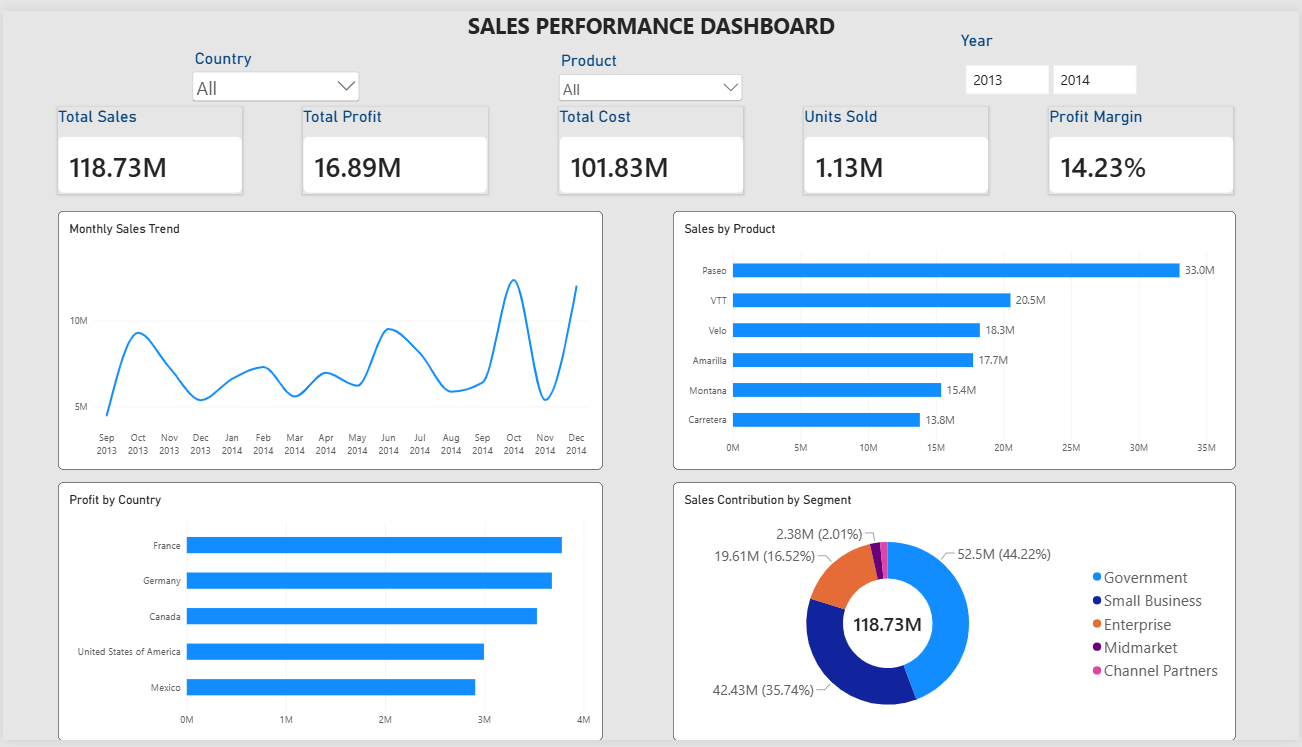

The page's visual inventory and layout, read from the dashboard file:
{"tool":"powerbi","page":{"name":"Page 1","canvas":[1920,1080],"ordinal":0},"visuals":[{"type":"cardVisual","title":"Total Sales","fields":{"Data":["Sum(financials. Sales)"]},"box":[82.3,142,273,127.6],"z":0},{"type":"cardVisual","title":"Total Profit","fields":{"Data":["Sum(financials.Profit)"]},"box":[444.6,142,273.8,127.6],"z":1000},{"type":"cardVisual","title":"Total Cost","fields":{"Data":["Sum(financials.COGS)"]},"box":[823.3,142,273,127.6],"z":2000},{"type":"cardVisual","title":"Units Sold","fields":{"Data":["Sum(financials.Units Sold)"]},"box":[1187.7,142,273,127.6],"z":3000},{"type":"lineChart","title":"Monthly Sales Trend","fields":{"Category":["financials.Month Year"],"Y":["Sum(financials. Sales)"]},"box":[82.3,296.4,806.9,382.8],"z":4000},{"type":"clusteredBarChart","title":"Sales by Product","fields":{"Category":["financials.Product"],"Y":["Sum(financials. Sales)"]},"box":[992.1,296.4,833.6,382.8],"z":5000},{"type":"clusteredBarChart","title":"Profit by Country","fields":{"Category":["financials.Country"],"Y":["Sum(financials.Profit)"]},"box":[82.3,697.8,806.9,382.8],"z":6000},{"type":"donutChart","title":"Sales Contribution by Segment","fields":{"Category":["financials.Segment"],"Y":["Sum(financials. Sales)"]},"box":[992.1,697.8,833.6,382.8],"z":7000},{"type":"cardVisual","title":"Profit Margin","fields":{"Data":["financials.Profit Margin %"]},"box":[1549.9,142,273,127.6],"z":8000},{"type":"slicer","fields":{"Values":["financials.Country"]},"box":[275.8,55.6,257.3,86.4],"z":9000},{"type":"slicer","title":"Year","fields":{"Values":["financials.Year"]},"box":[1418.2,28.8,292.3,113.2],"z":10000},{"type":"slicer","fields":{"Values":["financials.Product"]},"box":[819.2,59.7,282,82.3],"z":11000},{"type":"textbox","box":[0,0,1920.4,55.6],"z":12000}]}

Visuals, with their boxes in screenshot pixels (x1, y1, x2, y2), scaled from the page's 1920x1080 canvas onto the 1302x747 screenshot:
"Total Sales" cardVisual: bbox=(56, 98, 241, 186)
"Total Profit" cardVisual: bbox=(301, 98, 487, 186)
"Total Cost" cardVisual: bbox=(558, 98, 743, 186)
"Units Sold" cardVisual: bbox=(805, 98, 991, 186)
"Monthly Sales Trend" lineChart: bbox=(56, 205, 603, 470)
"Sales by Product" clusteredBarChart: bbox=(673, 205, 1238, 470)
"Profit by Country" clusteredBarChart: bbox=(56, 483, 603, 746)
"Sales Contribution by Segment" donutChart: bbox=(673, 483, 1238, 746)
"Profit Margin" cardVisual: bbox=(1051, 98, 1236, 186)
slicer - financials.Country: bbox=(187, 38, 362, 98)
"Year" slicer: bbox=(962, 20, 1160, 98)
slicer - financials.Product: bbox=(556, 41, 747, 98)
textbox: bbox=(0, 0, 1301, 38)
